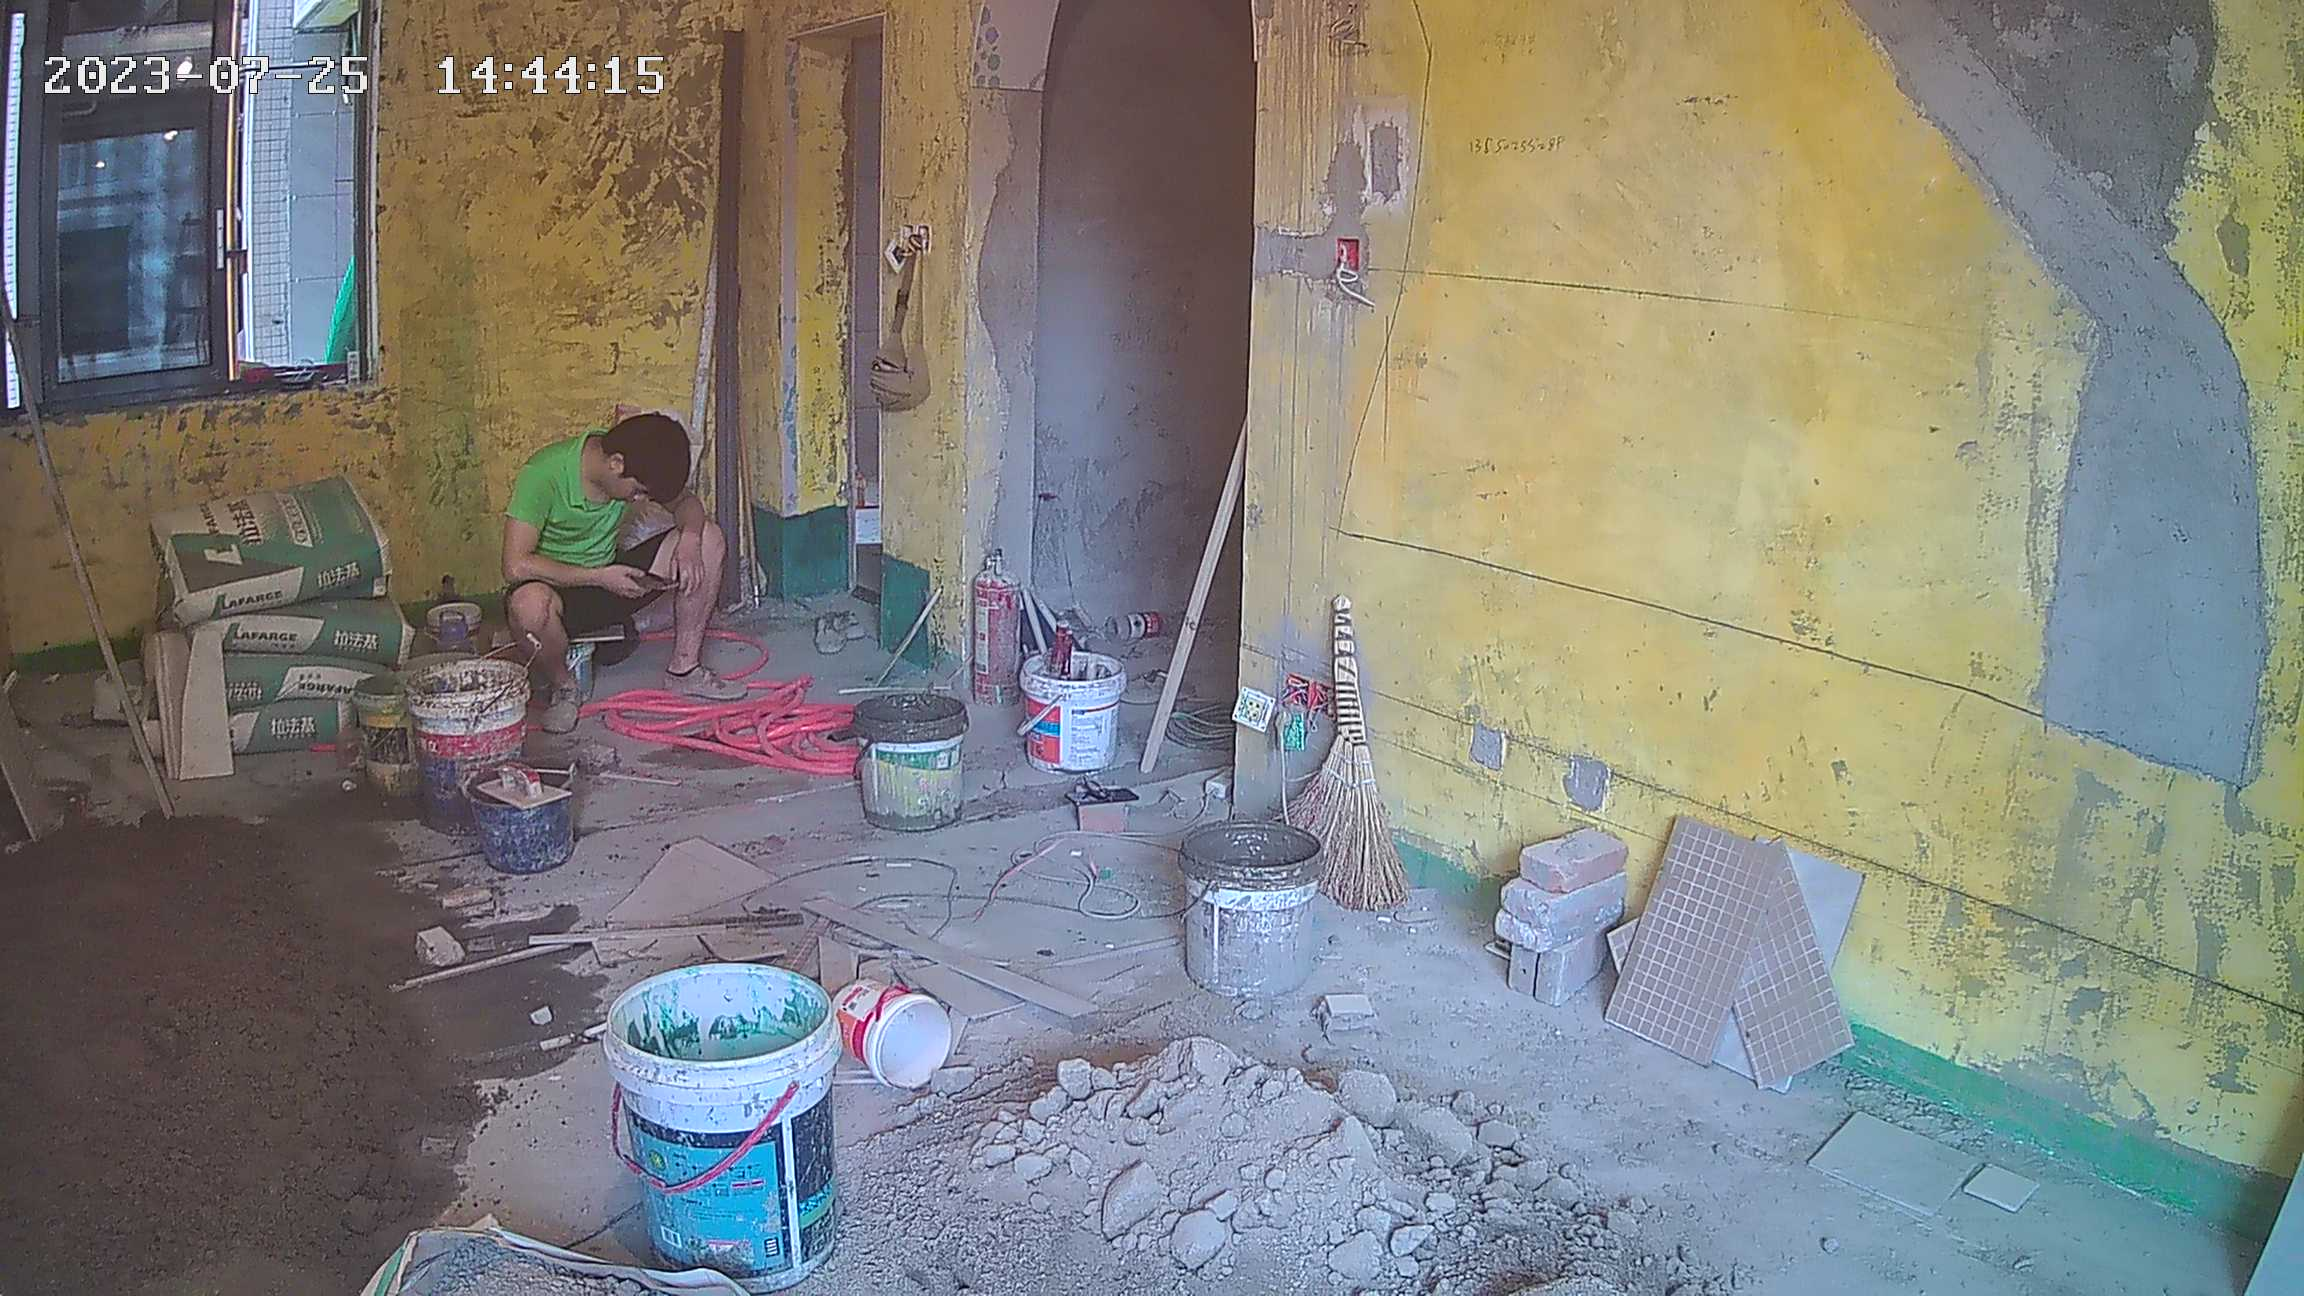people: (502, 412, 748, 732)
window: (1, 1, 375, 387)
